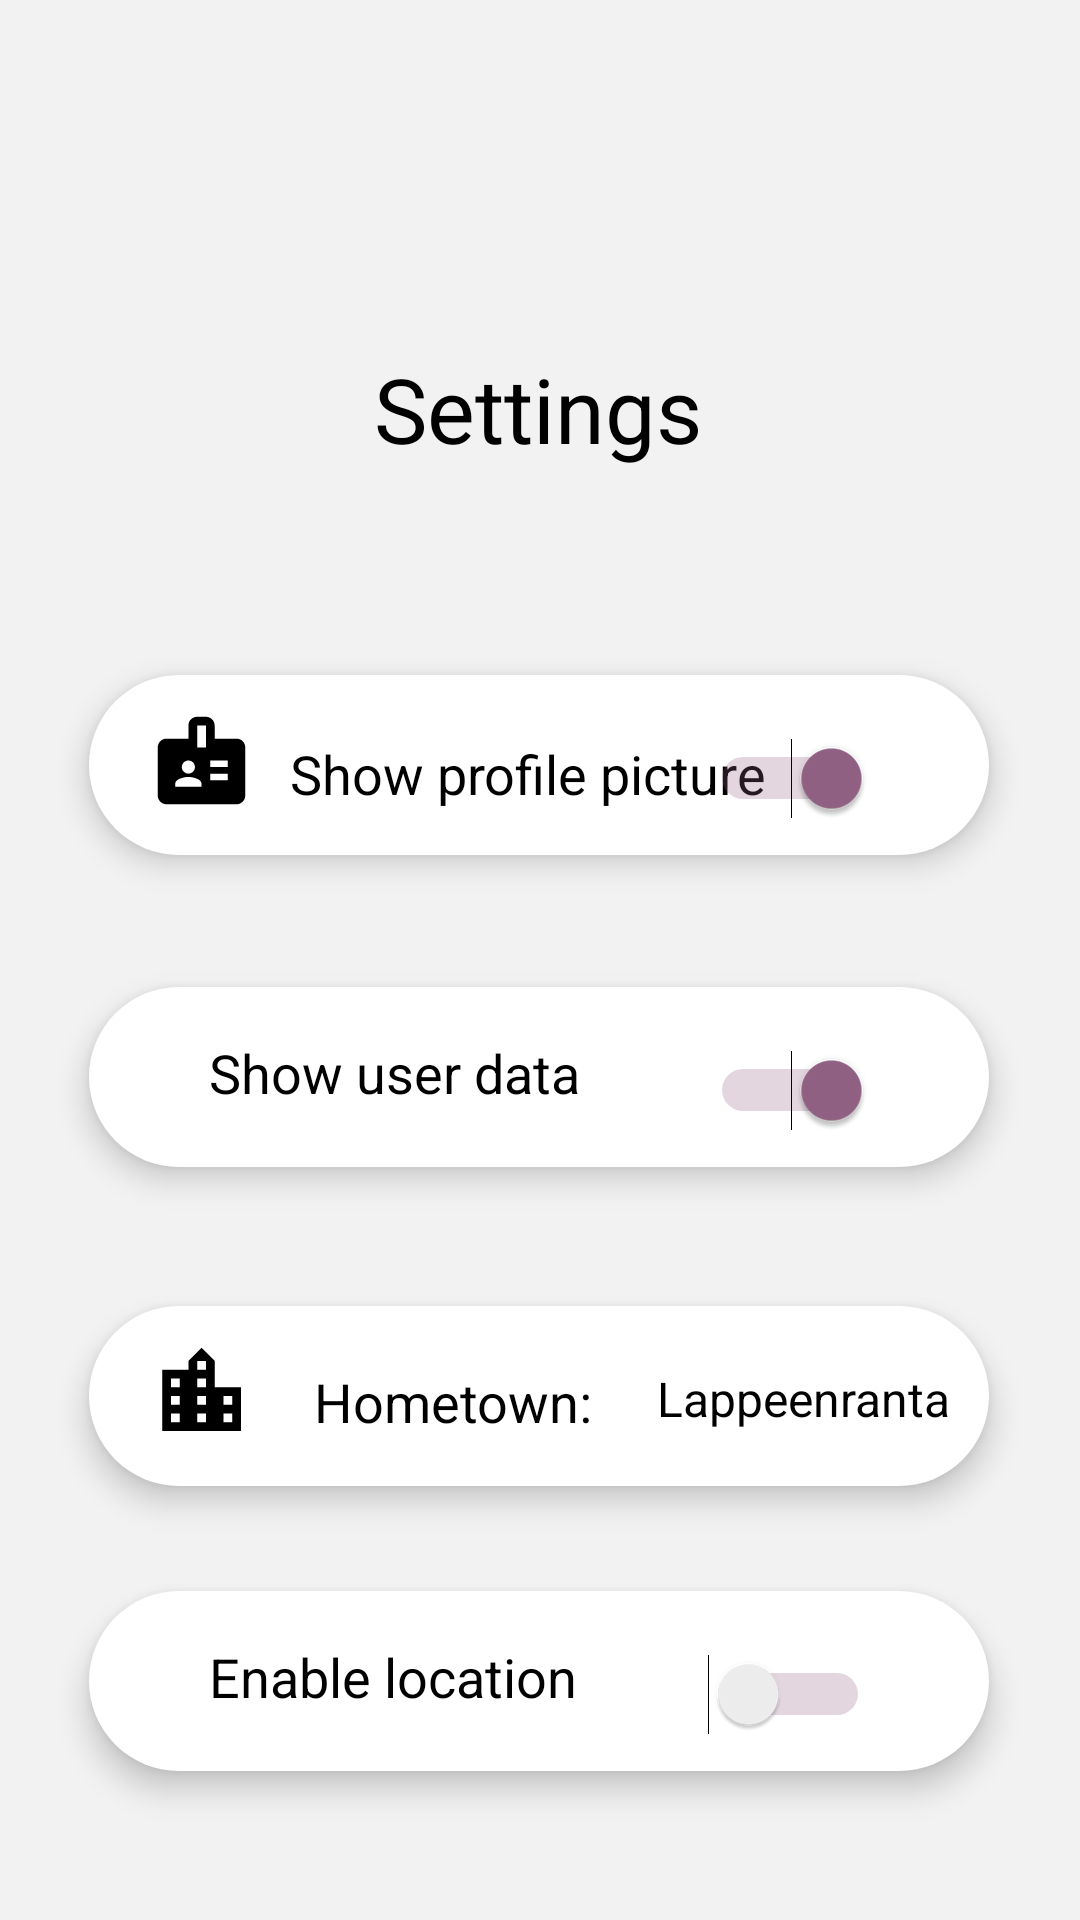

Screen size 1080 x 1920. Icon name, then its box in pixels as (x1, y1, x2, y2):
badge: (157, 716, 246, 805)
location city: (162, 1348, 241, 1431)
